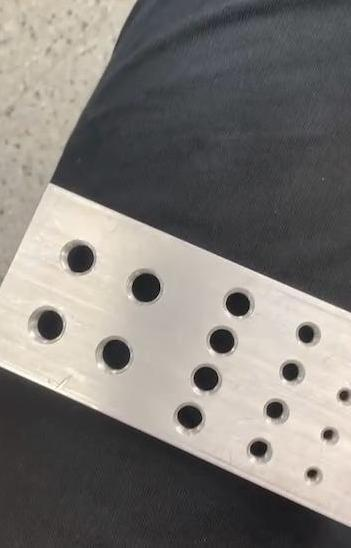hole: (92, 334, 134, 375), (25, 304, 65, 346), (57, 238, 98, 276), (124, 268, 163, 306), (170, 400, 207, 437), (222, 286, 257, 322), (188, 363, 224, 398), (204, 324, 238, 357), (261, 394, 291, 426), (276, 358, 307, 388), (293, 319, 322, 349), (243, 436, 274, 464), (319, 424, 341, 447), (303, 463, 323, 486), (335, 386, 351, 409)
